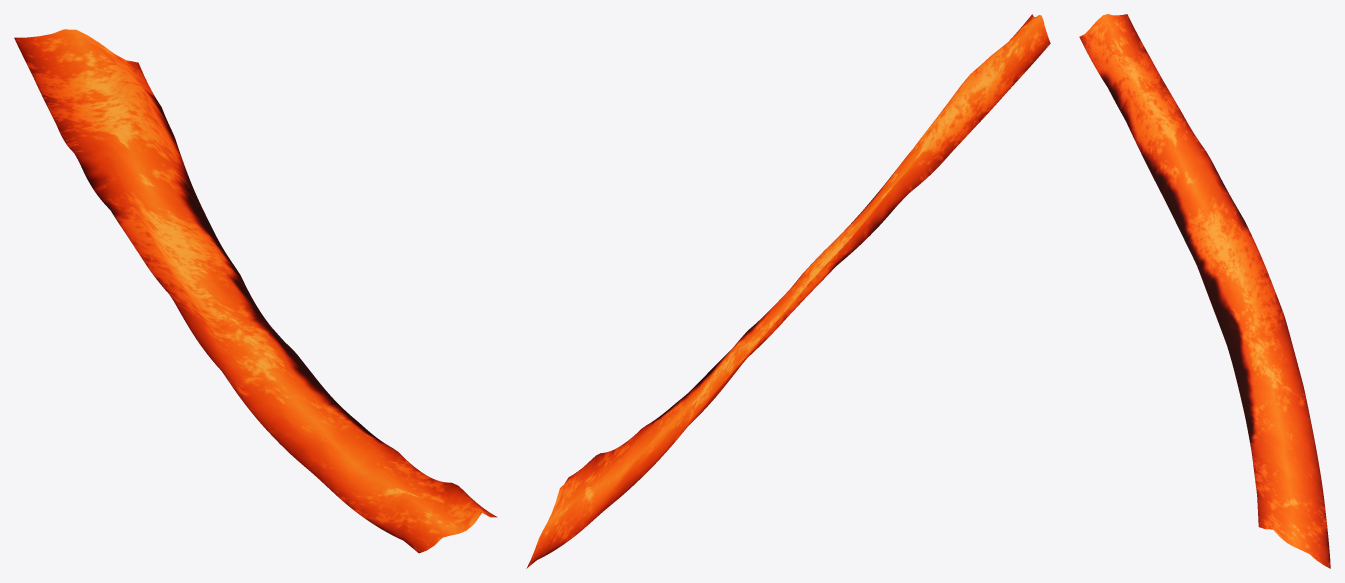
The model's file is flow_1_3.glb.
3 renders of one model, left to right at view 1: azimuth 30°, elevation 25°; view 2: azimuth 150°, elevation 25°; view 3: azimuth 270°, elevation 25°, orthographic. The views are drawn at different scales.
Size of the model in its own units: 12.57 by 16.19 by 8.9.
